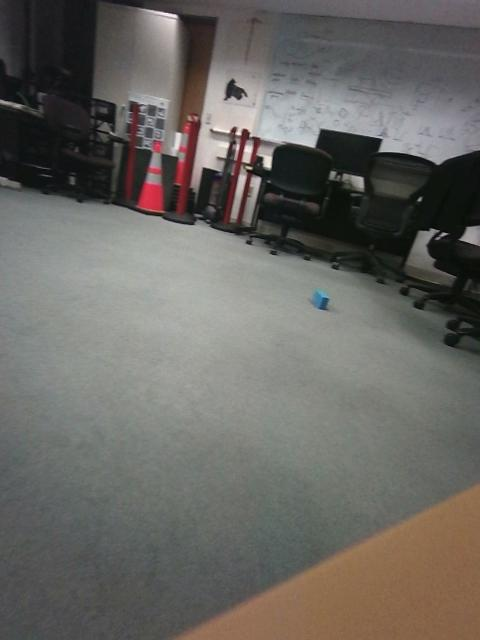block: (2, 311, 66, 356)
